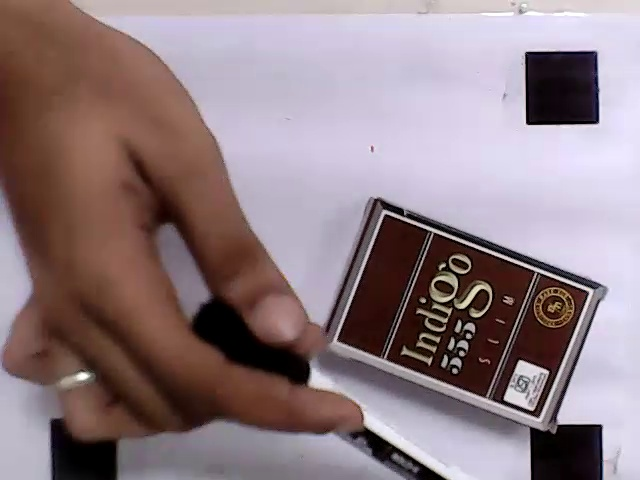BEX: (338, 211, 592, 420)
